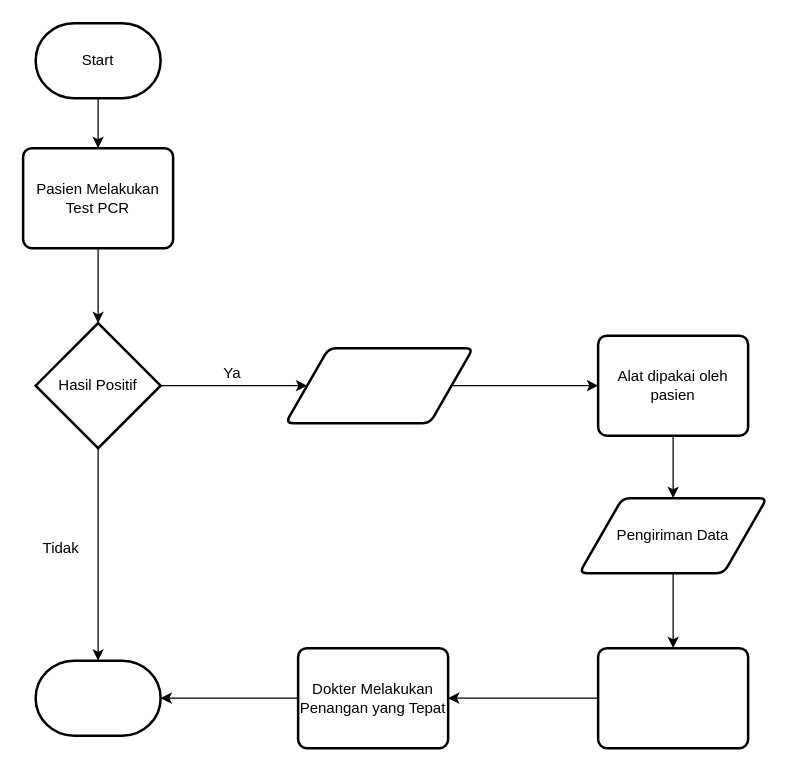
This 789x770 diagram has some shape labels left out. The shapes that lost their labels are listed below. From the top down, each one's centre as x and y in pixels, then its label:
At (379,385): "Input Data ke IOT Wearabale Device".
At (97,697): "Stop".
At (672,697): "Monitoring Data oleh Dokter".
